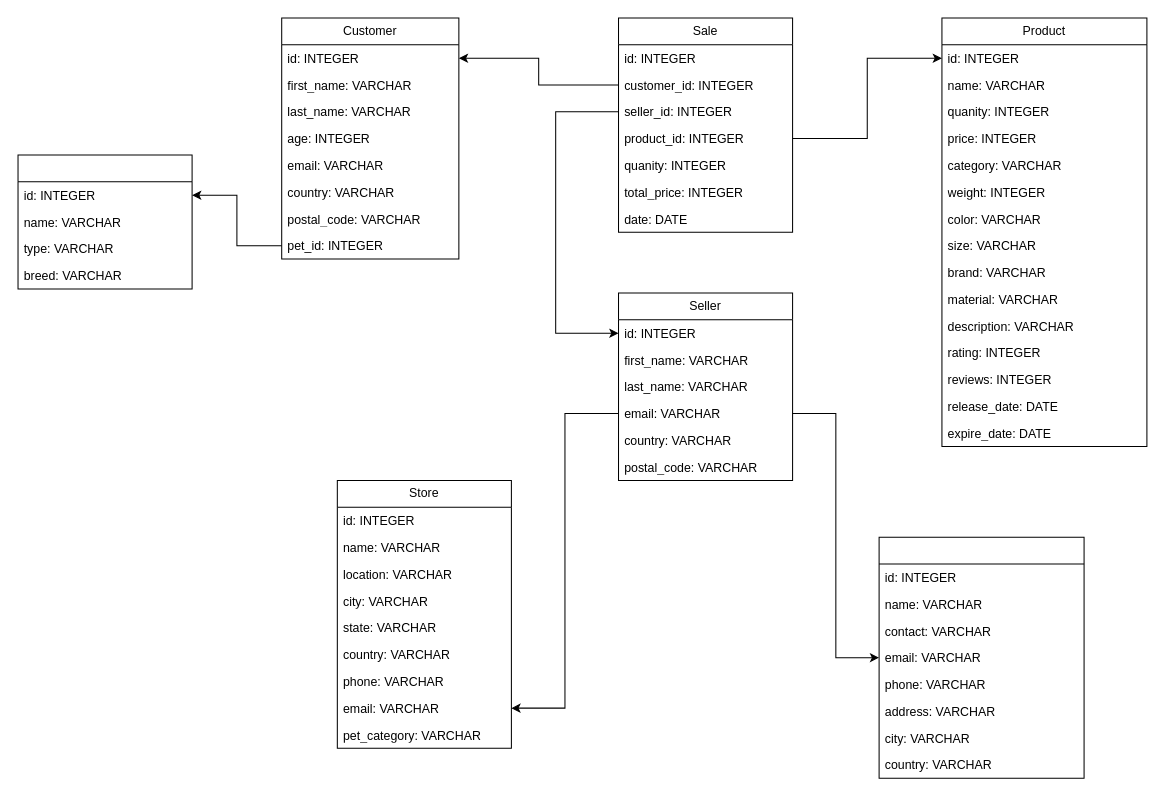
Some shapes in this 1165 by 799 pixel diagram are drawn without their labels. Here are the shapes that lost their labels. From the top down, the box of each, then its label:
(17, 154, 192, 289): Pet
(878, 536, 1084, 778): Supplier
